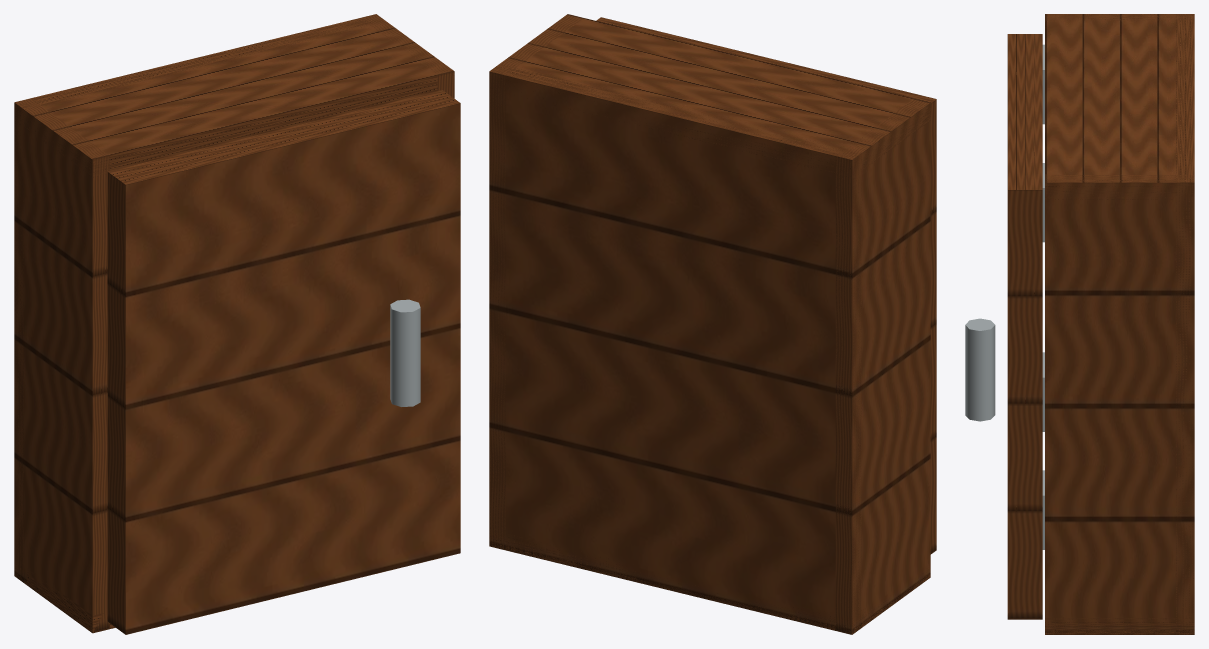
File: suburban-outbreak-interiors-hall-key-cupboard-fe1cce99__19933.glb
3 renders of one model, left to right at view 1: azimuth 30°, elevation 25°; view 2: azimuth 150°, elevation 25°; view 3: azimuth 270°, elevation 25°, orthographic. The views are drawn at different scales.
Parts seen in each view (by area): view 1: cabinet-door-0/wood, hall-key-cupboard; view 2: hall-key-cupboard, cabinet-door-0/wood; view 3: hall-key-cupboard, cabinet-door-0/wood.
Boxes of the visible parts, box(x1,y1,x2,y2) form: cabinet-door-0/wood: box(107, 90, 460, 634); hall-key-cupboard: box(14, 14, 454, 633); hall-key-cupboard: box(489, 14, 930, 634); cabinet-door-0/wood: box(596, 17, 936, 554); hall-key-cupboard: box(965, 14, 1194, 634); cabinet-door-0/wood: box(1007, 34, 1042, 619).
Size of the model in its own units: 0.4 by 0.5 by 0.23.
Materials: 2 (1 with a texture image).
